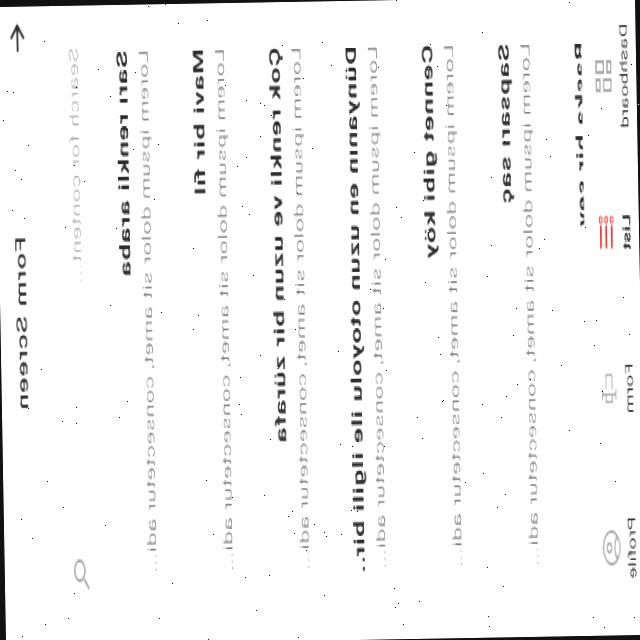QLabel: (134, 42, 160, 576), (287, 38, 312, 572), (364, 36, 388, 572), (344, 39, 367, 577), (213, 42, 236, 572), (518, 38, 541, 568), (442, 37, 464, 571), (266, 39, 291, 452), (113, 40, 133, 282), (419, 40, 439, 258), (13, 230, 32, 410), (496, 37, 515, 207), (189, 40, 208, 200), (570, 33, 584, 226), (616, 18, 630, 130), (626, 513, 638, 581), (622, 358, 636, 412), (620, 208, 632, 254)
VAppBar: (0, 4, 44, 640)
VBottomNavigation: (580, 0, 640, 635)
VBtn: (586, 9, 632, 139), (596, 506, 640, 587), (594, 347, 640, 424), (592, 195, 636, 260)
VCard: (401, 9, 484, 622), (172, 8, 254, 627), (478, 6, 560, 620), (96, 12, 178, 624), (248, 9, 329, 624), (327, 9, 408, 622), (554, 6, 592, 616)
VIcon: (595, 206, 616, 252), (600, 524, 622, 566), (592, 52, 613, 94), (598, 364, 618, 406), (6, 16, 26, 56)
VTextField: (54, 14, 100, 627)
